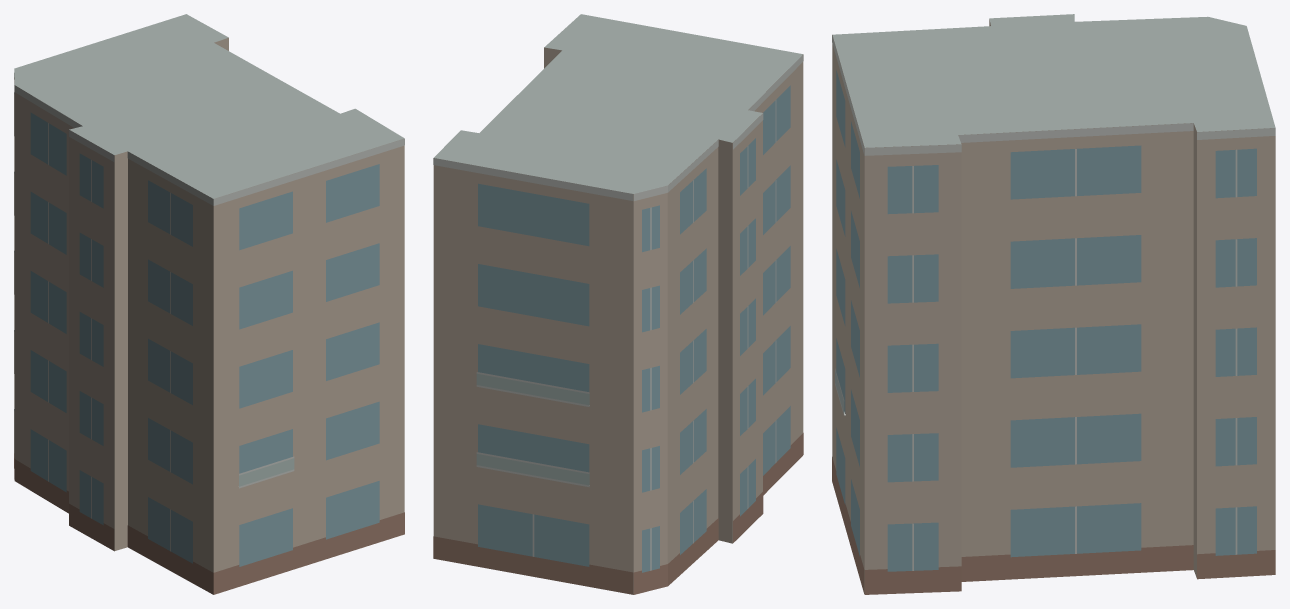
Rendered from survey-upis-32958387.glb.
The picture shows the model from 3 angles, left to right: view 1: azimuth 30°, elevation 25°; view 2: azimuth 150°, elevation 25°; view 3: azimuth 270°, elevation 25°; orthographic projection. The views are drawn at different scales.
Parts seen in each view (by area): view 1: survey-upis-32958387.tmp; view 2: survey-upis-32958387.tmp; view 3: survey-upis-32958387.tmp.
Boxes of the visible parts, <box> form: survey-upis-32958387.tmp: <box>14,14,404,594</box>; survey-upis-32958387.tmp: <box>433,14,803,594</box>; survey-upis-32958387.tmp: <box>832,14,1275,594</box>.
Bounding box in the file's own units: 8.74 × 13.6 × 12.23.
